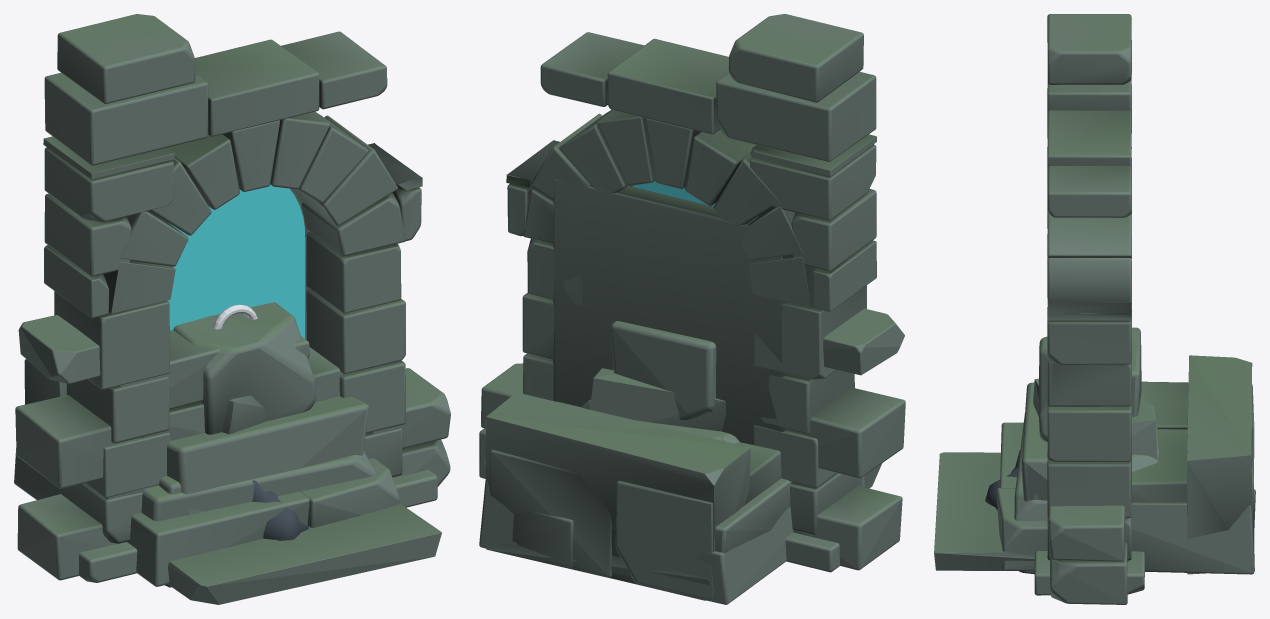
File: kit.glb
3 renders of one model, left to right at view 1: azimuth 30°, elevation 25°; view 2: azimuth 150°, elevation 25°; view 3: azimuth 270°, elevation 25°, orthographic. The views are drawn at different scales.
Parts seen in each view (by area): view 1: arch, steps, wall_broken, membrane, block_a, block_c, block_d, block_b, rock_b; view 2: arch, steps, wall_broken, block_c, block_b, block_a, membrane; view 3: arch, steps, wall_broken, block_a, block_c, block_b, block_d, rock_b.
Boxes of the visible parts, x1,y1,x2,y2 form: arch: [43, 14, 437, 582]; steps: [14, 359, 441, 604]; wall_broken: [15, 315, 450, 580]; membrane: [167, 184, 305, 338]; block_a: [167, 396, 369, 515]; block_c: [173, 302, 316, 434]; block_d: [141, 451, 376, 520]; block_b: [159, 395, 266, 494]; rock_b: [252, 480, 308, 540]; arch: [506, 14, 876, 572]; steps: [479, 392, 881, 604]; wall_broken: [479, 308, 905, 570]; block_c: [611, 321, 726, 441]; block_b: [590, 368, 725, 431]; block_a: [581, 399, 739, 443]; membrane: [632, 181, 715, 206]; arch: [1034, 14, 1144, 595]; steps: [934, 355, 1255, 574]; wall_broken: [1048, 505, 1127, 604]; block_a: [1021, 382, 1159, 501]; block_c: [1039, 327, 1141, 441]; block_b: [1033, 378, 1157, 499]; block_d: [1014, 414, 1128, 561]; rock_b: [985, 450, 1034, 574].
Size of what is drawn, in the model's own units: 4.62 by 6.08 by 3.73.
